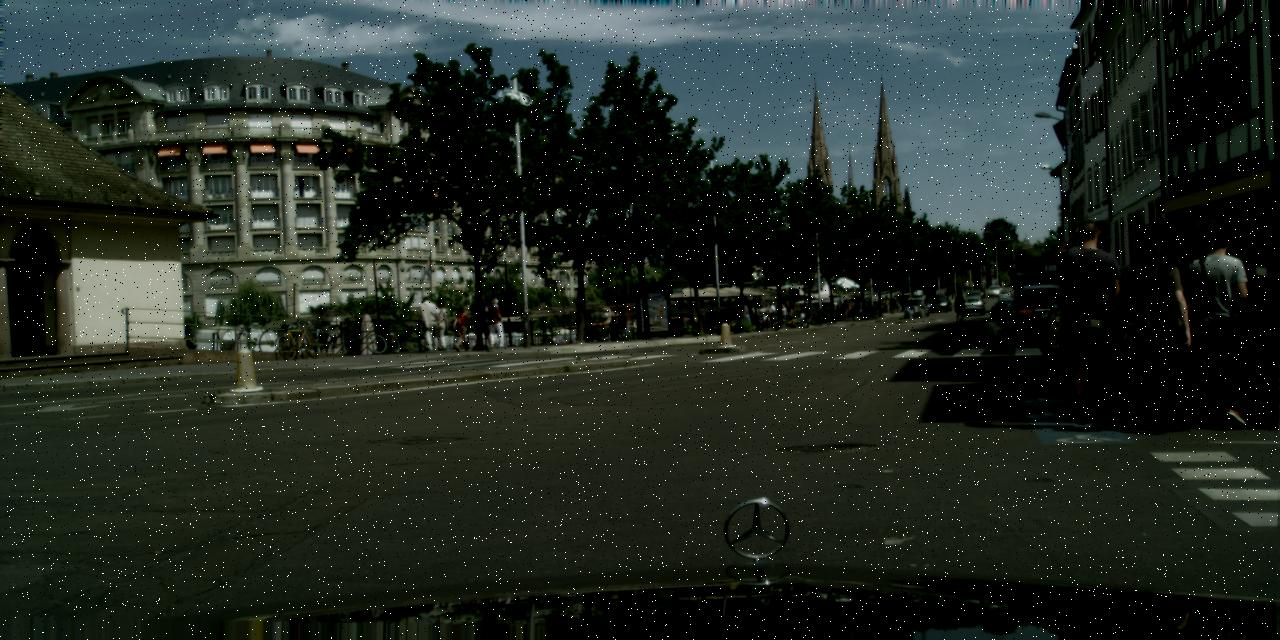ped: (1045, 219, 1129, 426), (1182, 224, 1266, 429), (1122, 238, 1202, 431), (416, 296, 438, 350), (471, 295, 492, 346), (485, 298, 505, 347), (430, 301, 450, 350), (452, 306, 470, 350), (614, 298, 630, 340), (953, 290, 966, 324), (747, 302, 757, 328), (741, 301, 751, 326), (608, 316, 618, 340), (756, 304, 766, 328), (722, 317, 737, 332), (848, 298, 857, 320), (840, 297, 849, 319), (784, 300, 792, 324), (780, 304, 789, 324), (841, 299, 850, 319), (835, 300, 843, 320), (852, 298, 859, 318), (891, 294, 898, 312), (882, 296, 889, 312), (823, 308, 828, 323), (814, 309, 818, 322), (874, 302, 878, 310)
